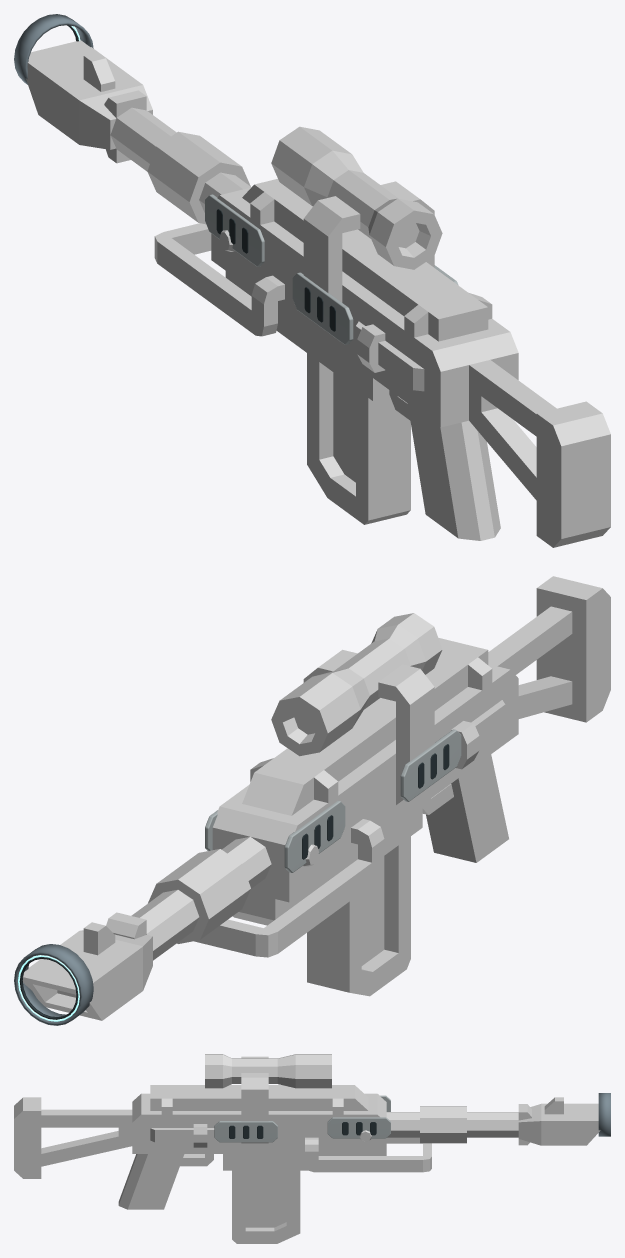
File: blaster-f-mk3.glb
3 views of the same model, one above another, from view 1: azimuth 30°, elevation 25°; view 2: azimuth 150°, elevation 25°; view 3: azimuth 270°, elevation 25° (orthographic). The views are drawn at different scales.
Visible parts, largest first — view 1: Pink War MKIII / THORN; view 2: Pink War MKIII / THORN; view 3: Pink War MKIII / THORN.
Boxes of the visible parts, left/top/right/bottom form: Pink War MKIII / THORN: left=14, top=14, right=610, bottom=547; Pink War MKIII / THORN: left=14, top=576, right=610, bottom=1025; Pink War MKIII / THORN: left=14, top=1054, right=610, bottom=1243.
Bounding box in the file's own units: 0.17 × 0.445 × 1.31.
